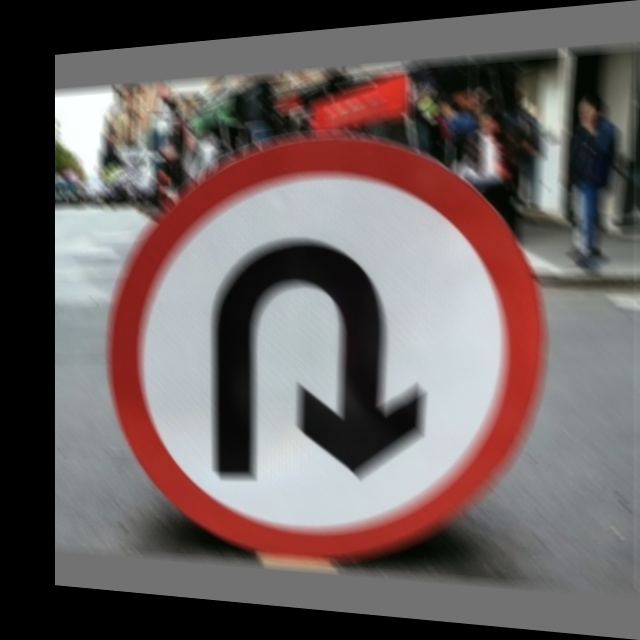U_Turn_Ahead: (153, 176, 512, 537)
